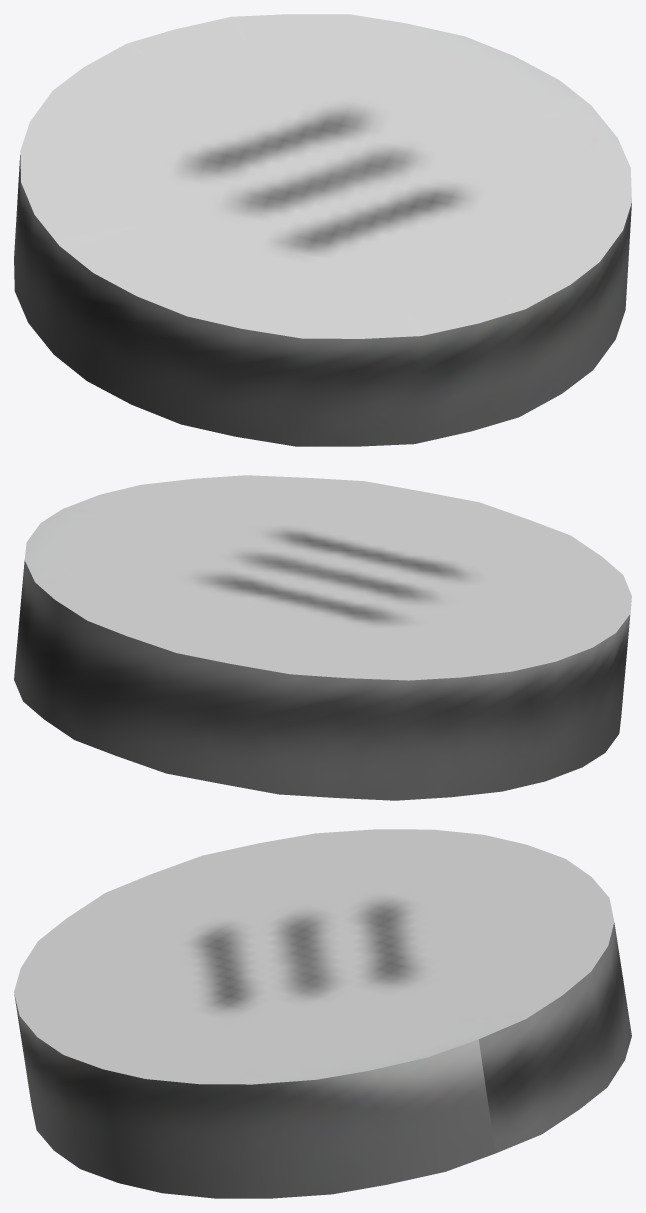
The picture shows the model from 3 angles, top to bottom: view 1: azimuth 30°, elevation 25°; view 2: azimuth 150°, elevation 25°; view 3: azimuth 270°, elevation 25°; orthographic projection.
Bounding box in the file's own units: 0.00822 × 0.00279 × 0.00834.
Materials: 1 (1 with a texture image).
